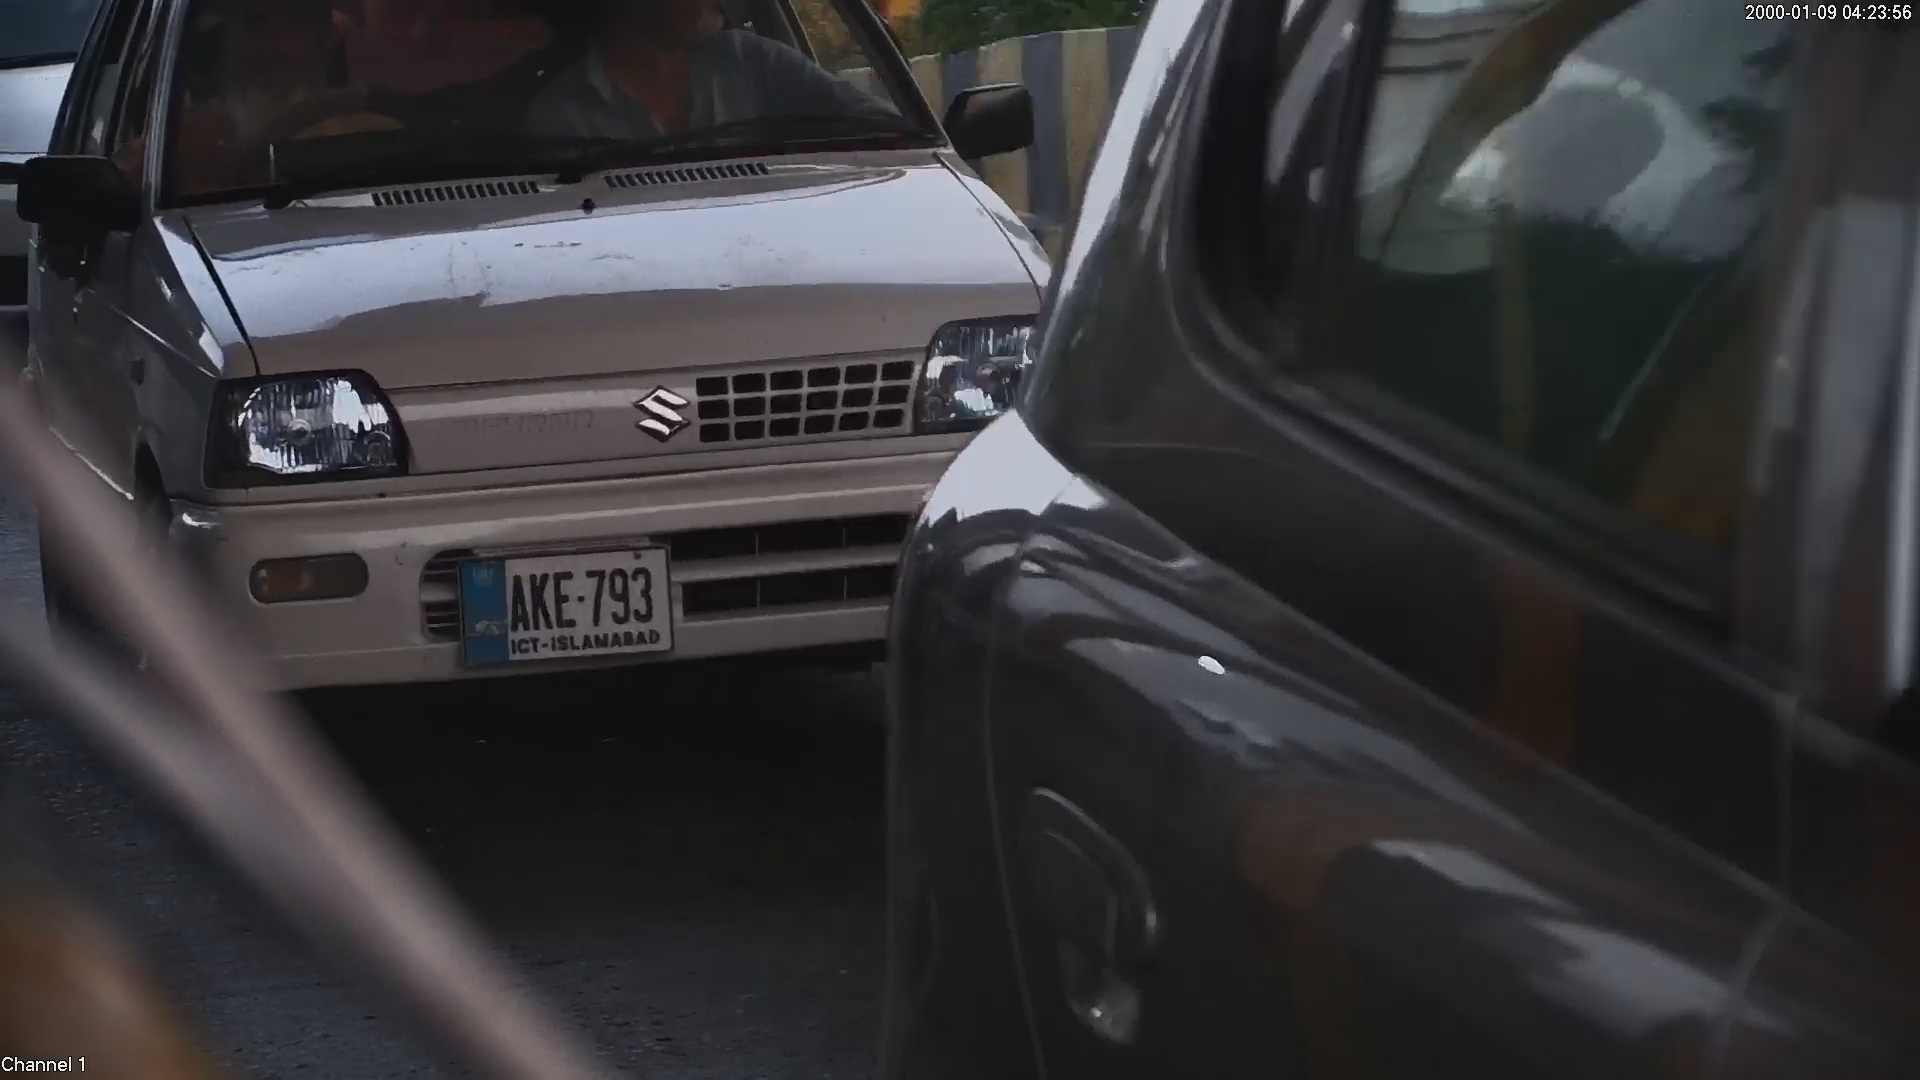Number_Plate: (437, 540, 687, 662)
Undefined: (221, 377, 397, 477), (239, 546, 380, 603), (463, 401, 606, 444), (632, 386, 704, 444)
